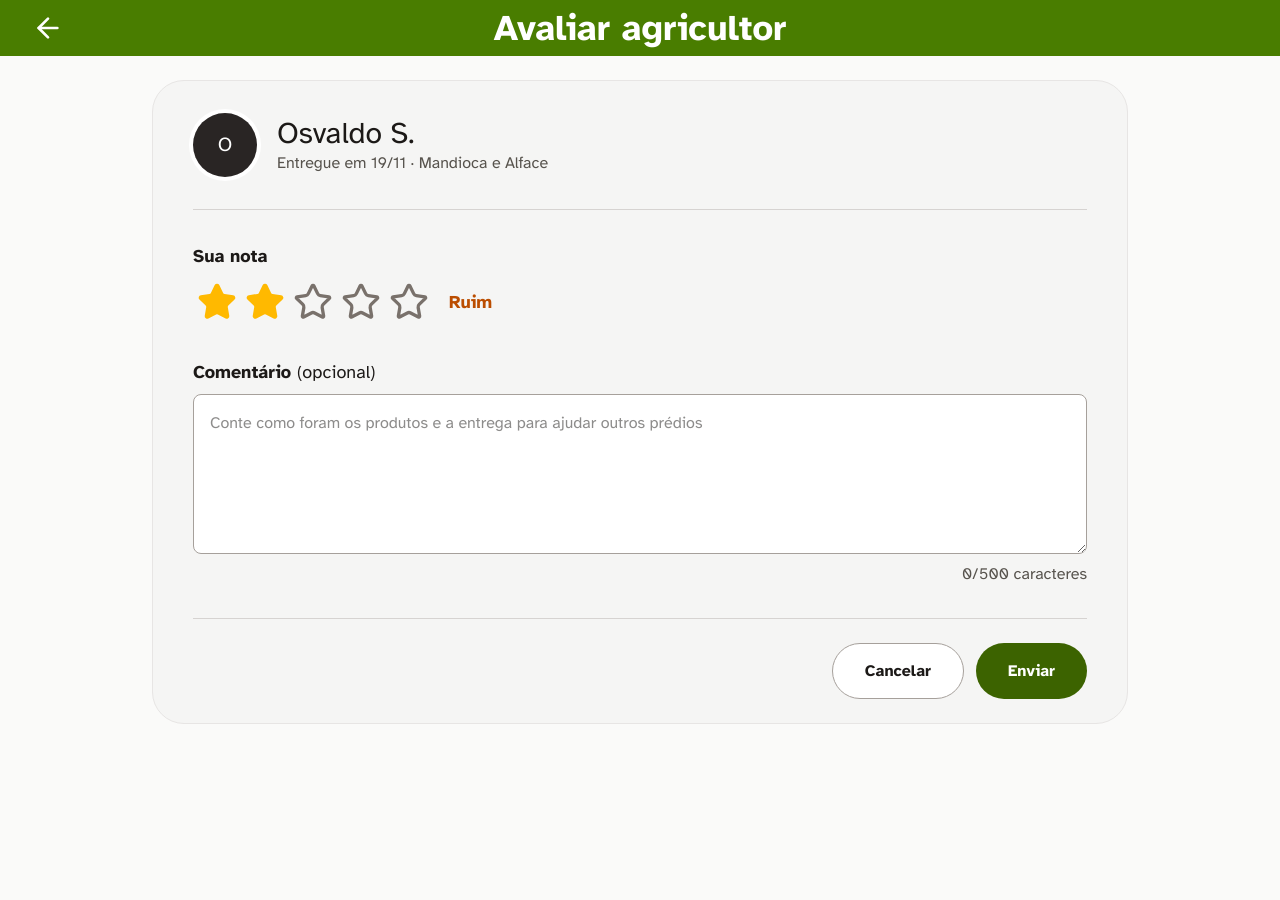
Test: Reviews form, unavailable or failing › explains, after the lists reload, a delivery rated in another tab
Click the button "Enviar".
click(1032, 671)  # box 976,643 -> 1087,699
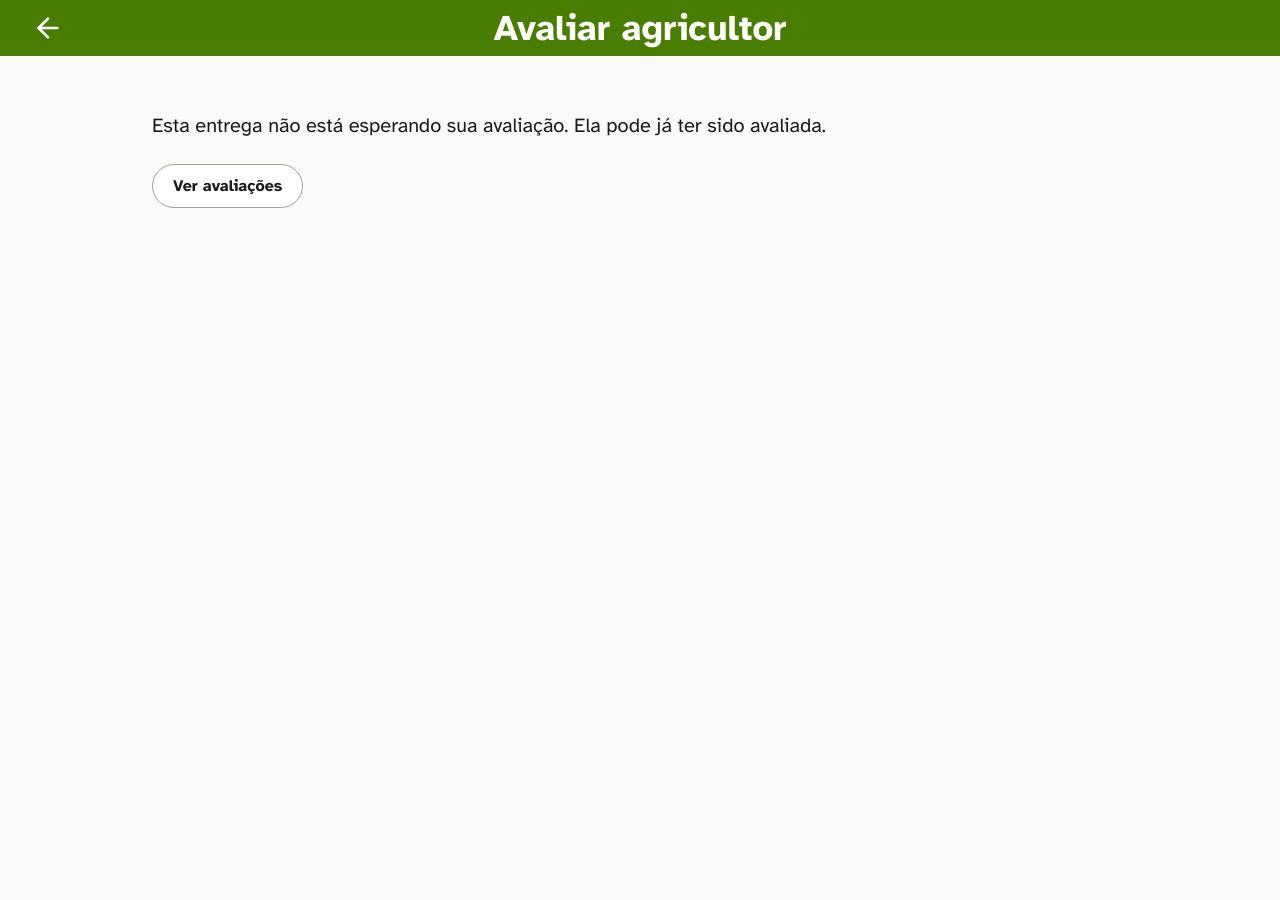
Expected: the text "Ela pode já ter sido avaliada" is shown, 152,113 -> 826,138
